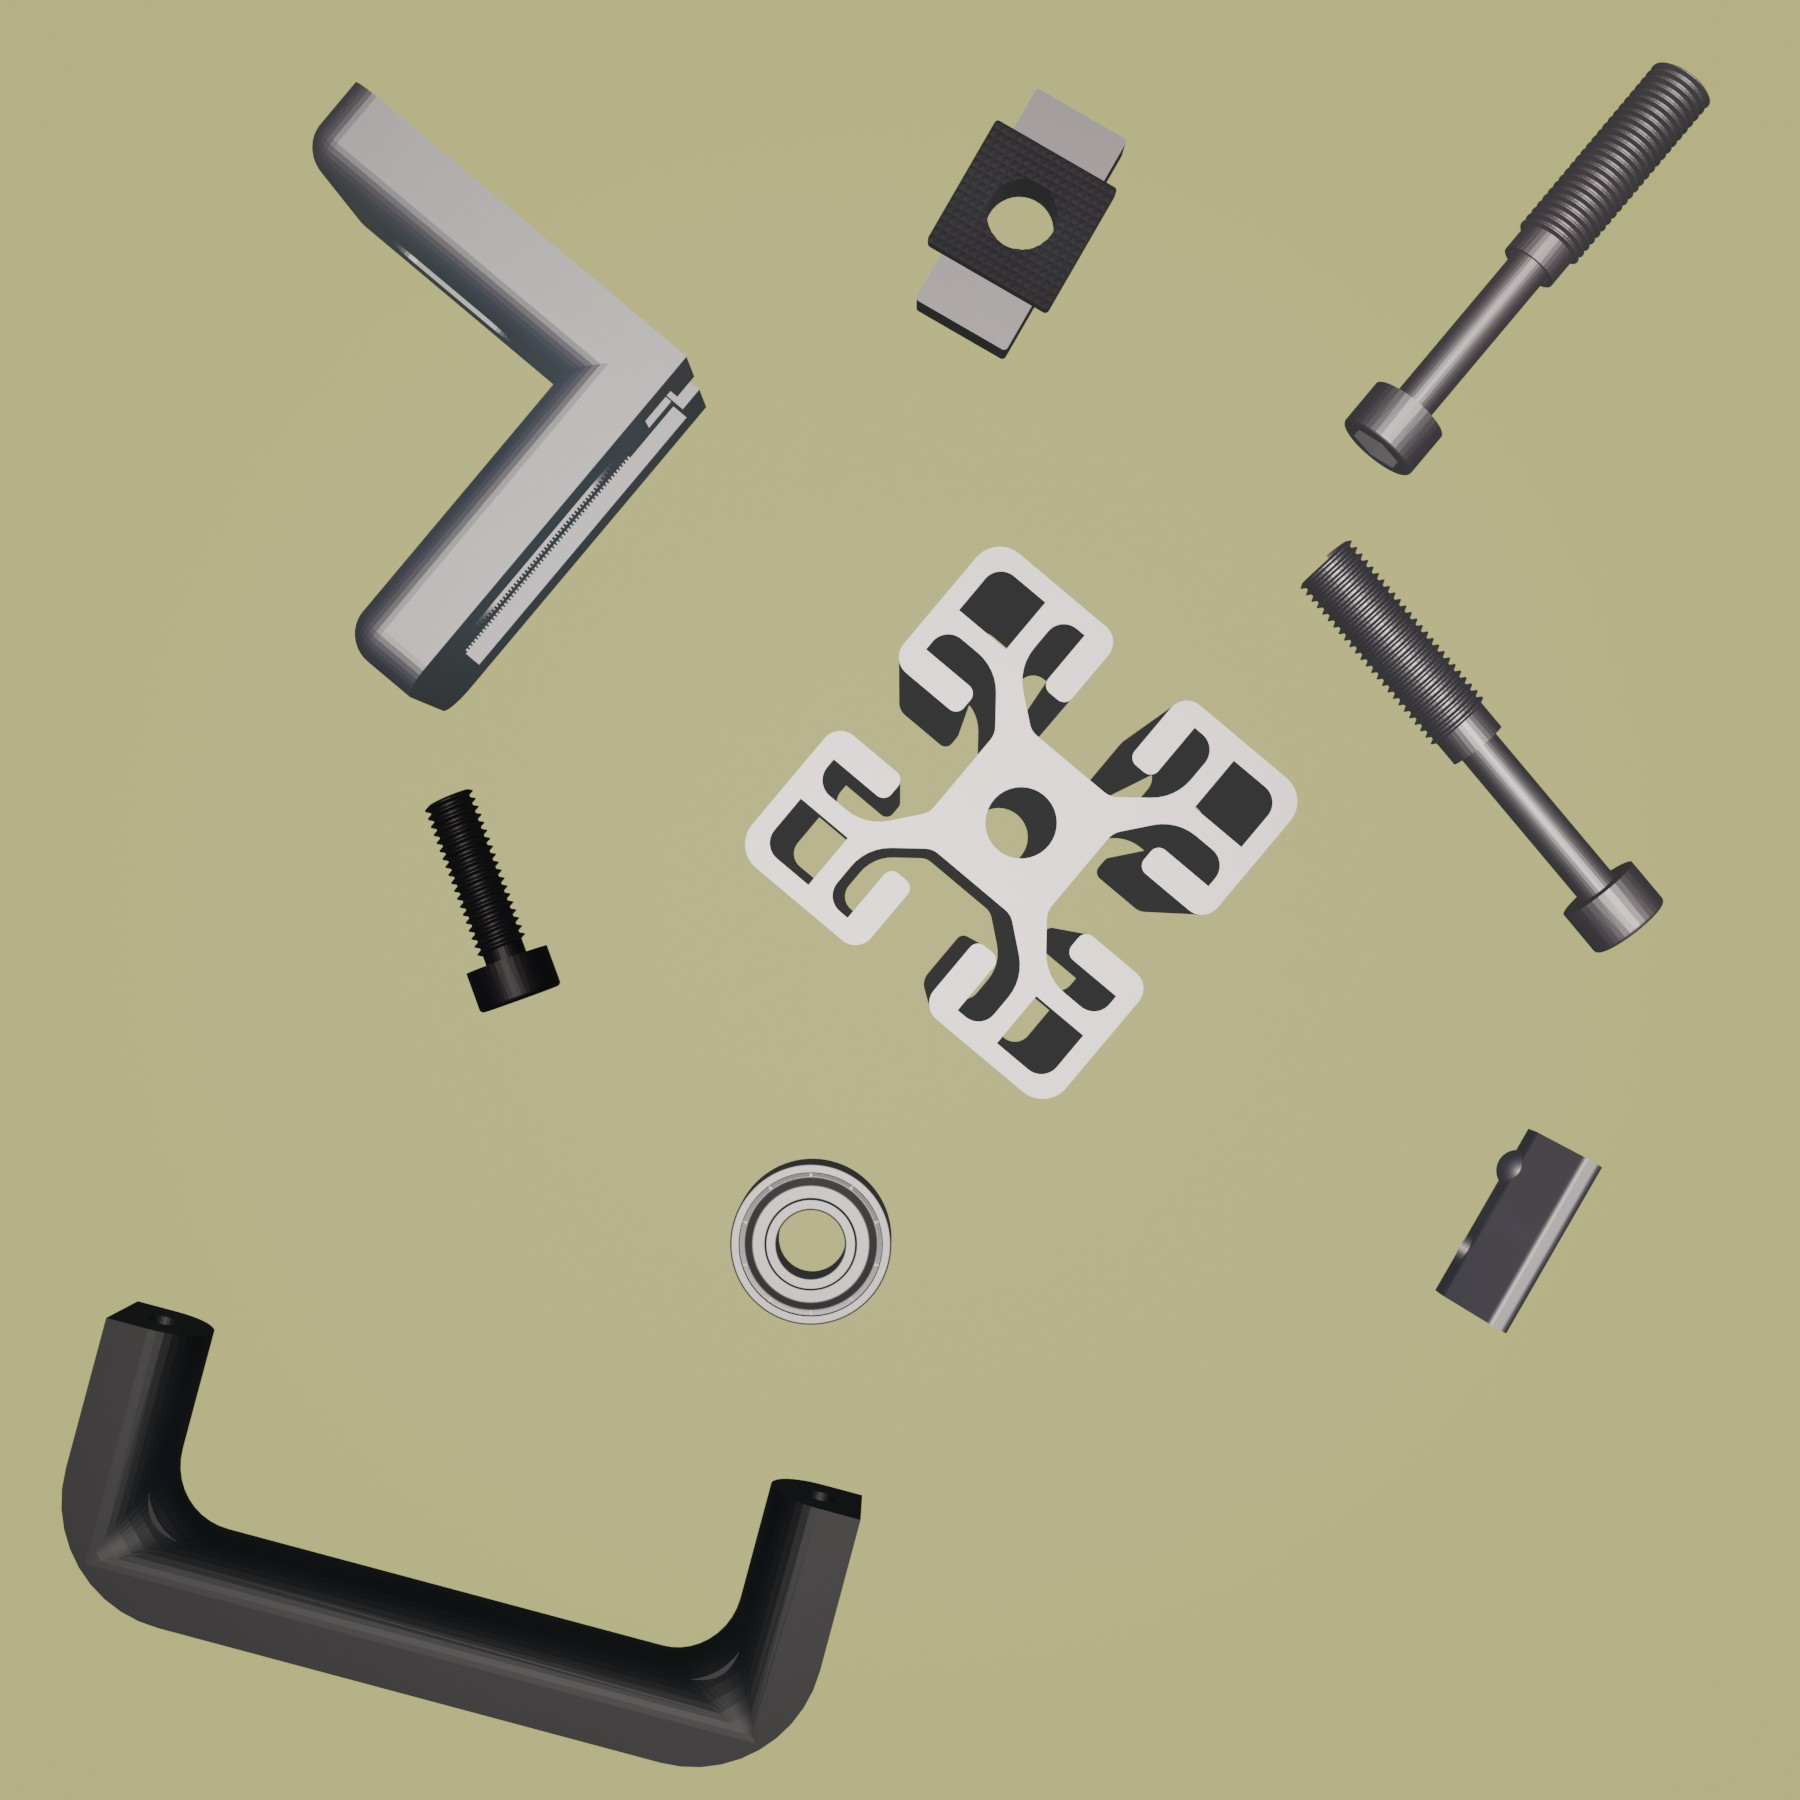Aluminium Extension: (742, 542, 1301, 1104)
Ball Bearing: (729, 1157, 893, 1327)
Multiwinkel: (308, 81, 709, 712)
Pull Handle: (56, 1301, 865, 1770)
Shoulder Socket Head Cap Screw: (1342, 58, 1711, 478), (1301, 536, 1666, 958)
Socket Head Cap Screw: (419, 785, 565, 1015)
T Nut Square: (912, 86, 1129, 361)
T Spring Nut: (1432, 1127, 1604, 1338)
